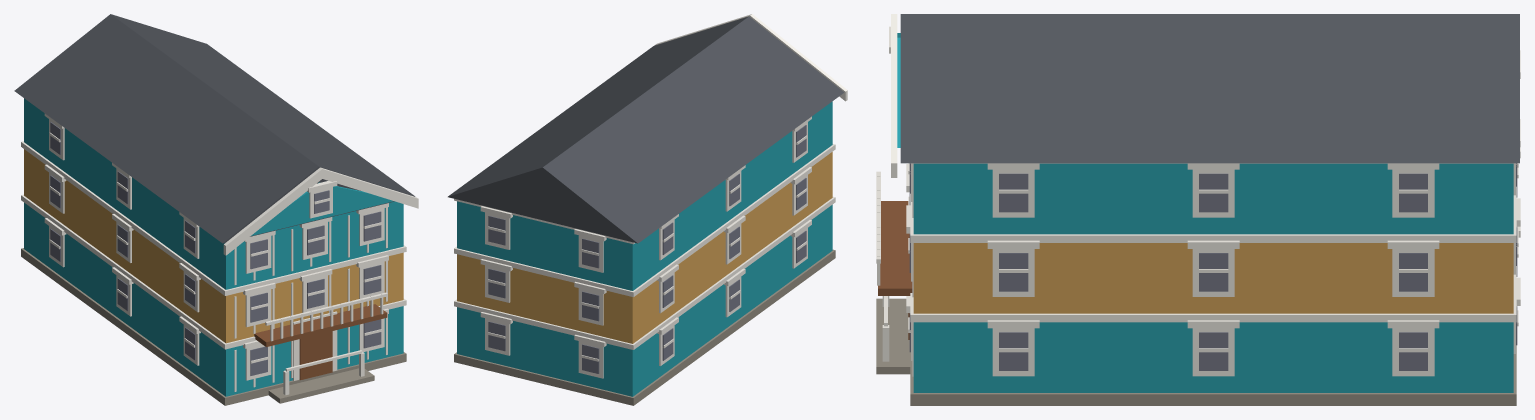
The model's file is house-1x2-3f-valparaiso-a.glb.
3 renders of one model, left to right at view 1: azimuth 30°, elevation 25°; view 2: azimuth 150°, elevation 25°; view 3: azimuth 270°, elevation 25°, orthographic. The views are drawn at different scales.
Parts seen in each view (by area): view 1: house-1x2-3f-valparaiso-a; view 2: house-1x2-3f-valparaiso-a; view 3: house-1x2-3f-valparaiso-a.
Part boxes in pixels (x1,y1,x2,y2): house-1x2-3f-valparaiso-a: (14,14,418,405); house-1x2-3f-valparaiso-a: (448,14,847,405); house-1x2-3f-valparaiso-a: (876,14,1520,405).
Bounding box in the file's own units: 1.02 × 1.11 × 1.99.
1 material, 1 textured.
